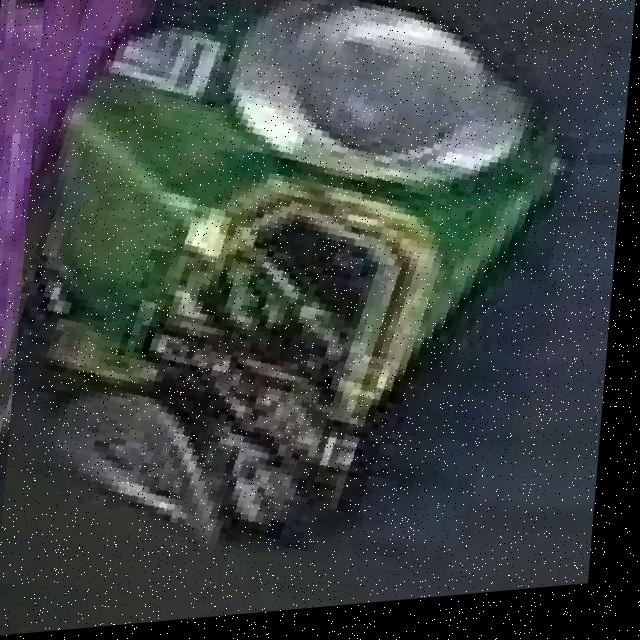litter: (17, 0, 630, 595)
